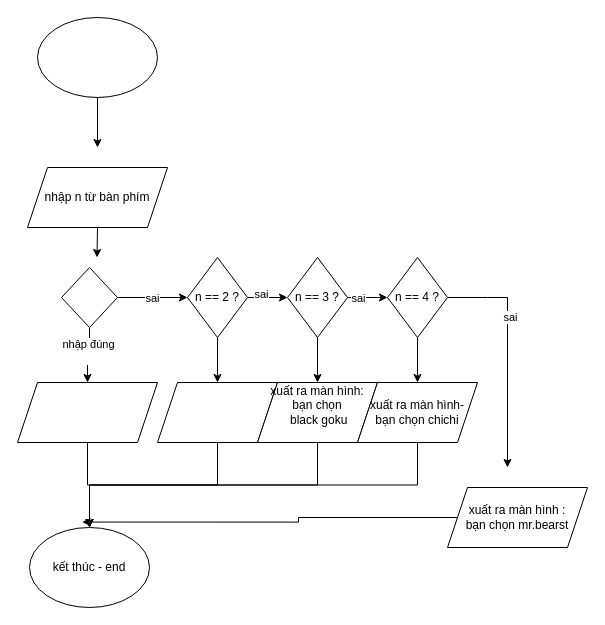
The diagram is 605 pixels wide and 625 high, and some of its shapes have lost their labels. The centre of each missing label's shape, as x and y in pixels:
"bắt đầu - start" belongs at point (97, 57).
"n == 1 ?" belongs at point (89, 297).
"xuất ra màn hình bạn songoku" belongs at point (87, 412).
"xuất ra màn hình: bạn chọn vegeta" belongs at point (217, 412).
